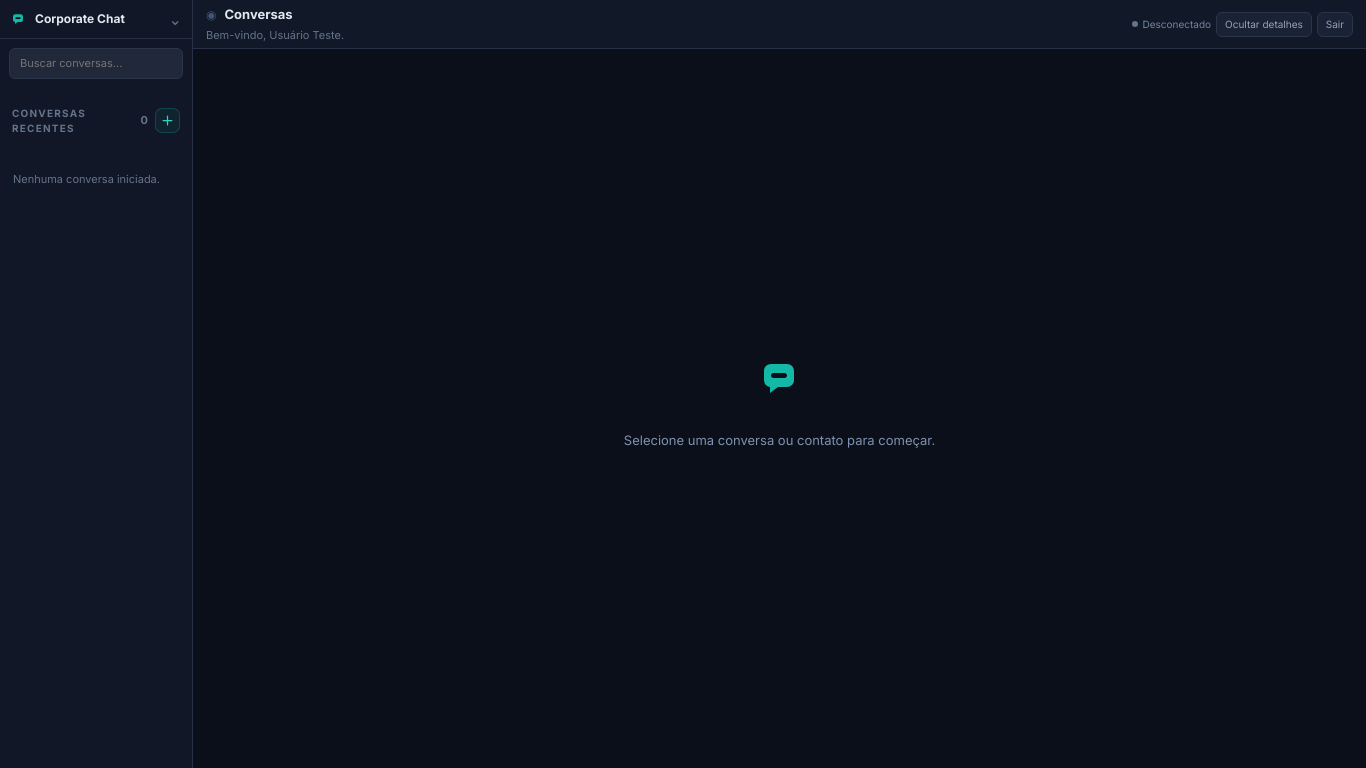
Scenario: deve permitir abrir e cancelar a criação de grupo
What coordinates should you click on to do the following:
click the button named "Novo grupo"
I would click on:
 (168, 121)
Its box is [155, 108, 180, 133].
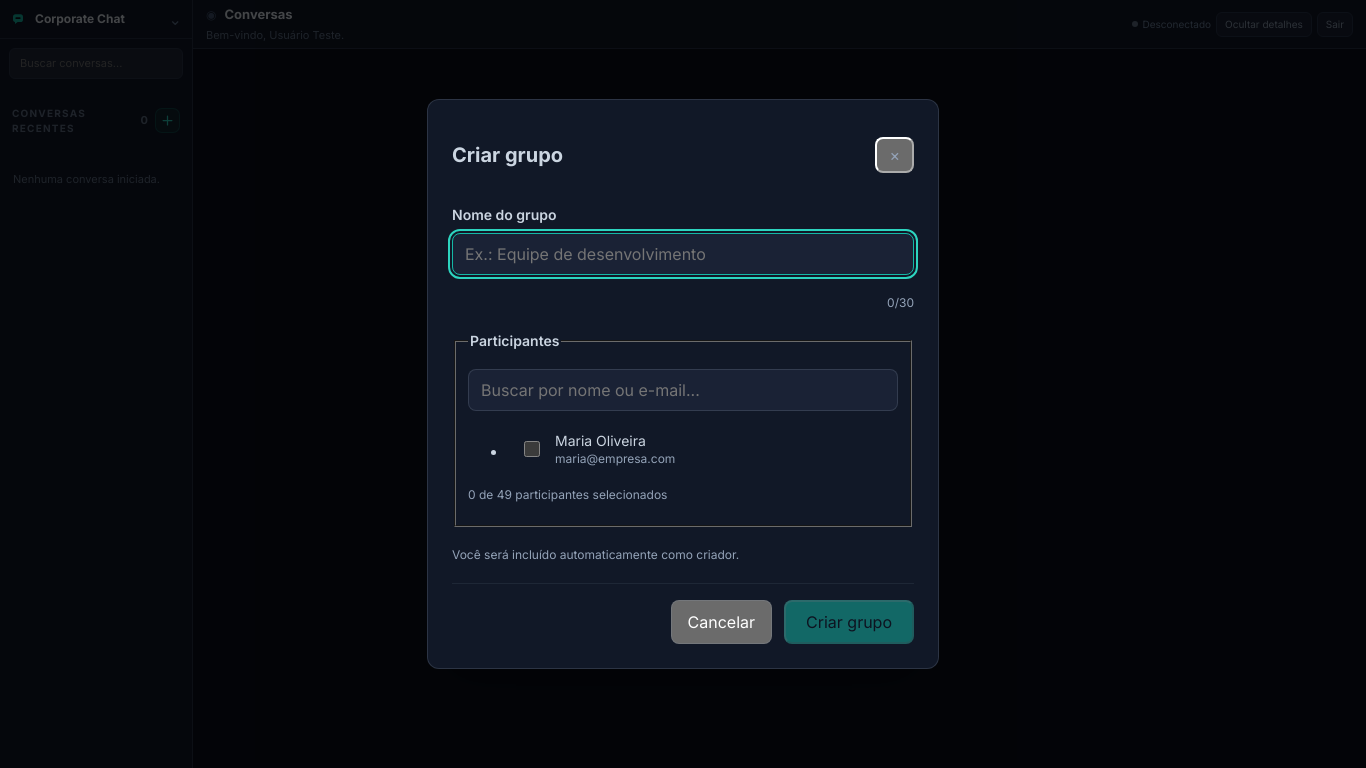
Now the dialog "Criar grupo" is shown, box [427, 99, 939, 669]
What coordinates should you click on to do the following:
click the button "Cancelar"
I would click on:
 (721, 622)
Its box is [671, 600, 772, 644].
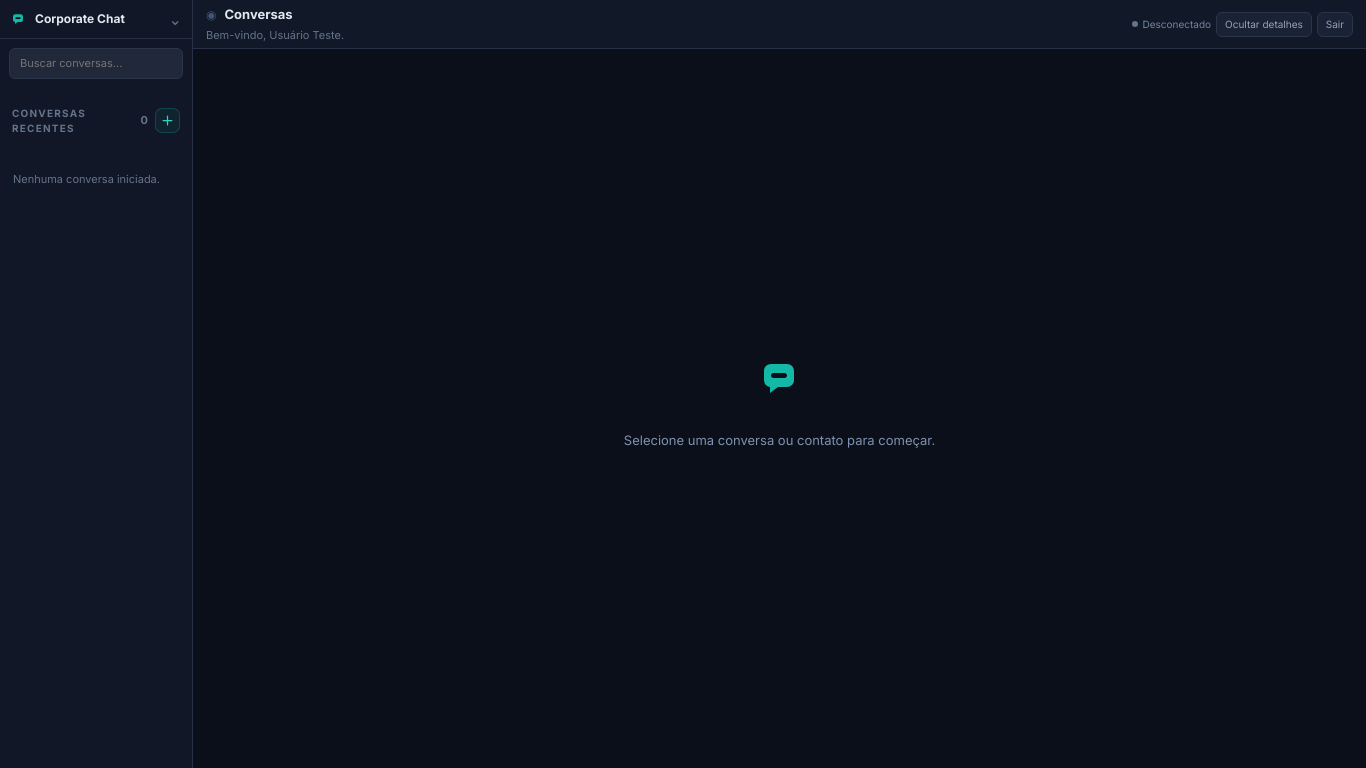
Now the dialog is gone
